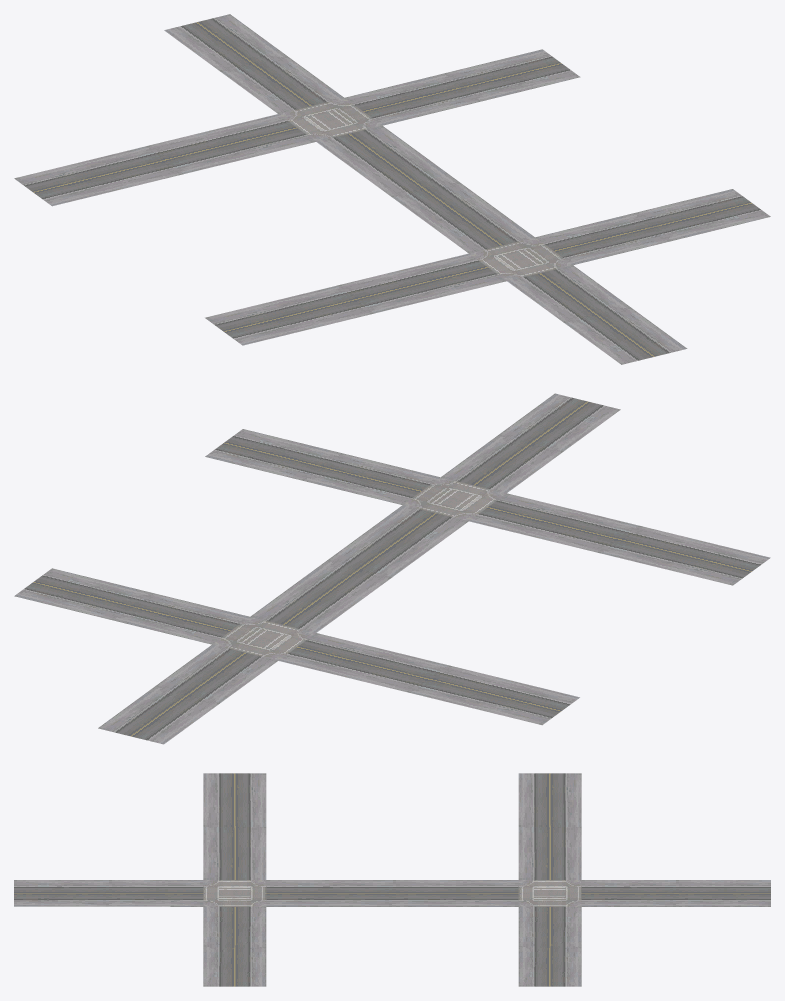
File: lodwindustroad01.obj
3 views of the same model, one above another, from view 1: azimuth 30°, elevation 25°; view 2: azimuth 150°, elevation 25°; view 3: azimuth 270°, elevation 25° (orthographic). The views are drawn at different scales.
Parts seen in each view (by area): view 1: lodwindustroad01; view 2: lodwindustroad01; view 3: lodwindustroad01.
Boxes of the visible parts, <box> form: lodwindustroad01: <box>14,14,770,364</box>; lodwindustroad01: <box>14,393,770,744</box>; lodwindustroad01: <box>14,773,770,986</box>.
Bounding box in the file's own units: 160 × 0.05 × 240.
Materials: 2 (2 with a texture image).
